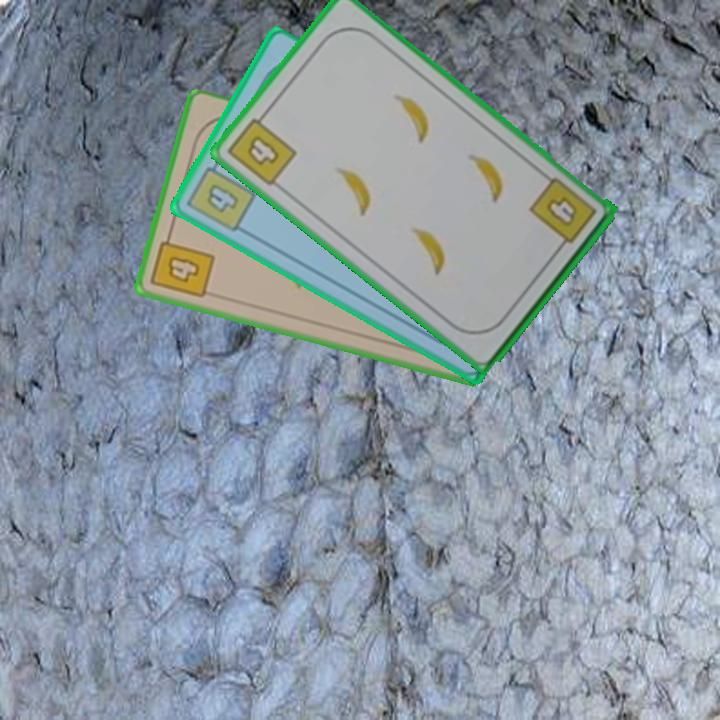4b: (223, 107, 300, 189), (525, 173, 600, 255), (183, 155, 259, 235), (147, 227, 218, 302)
